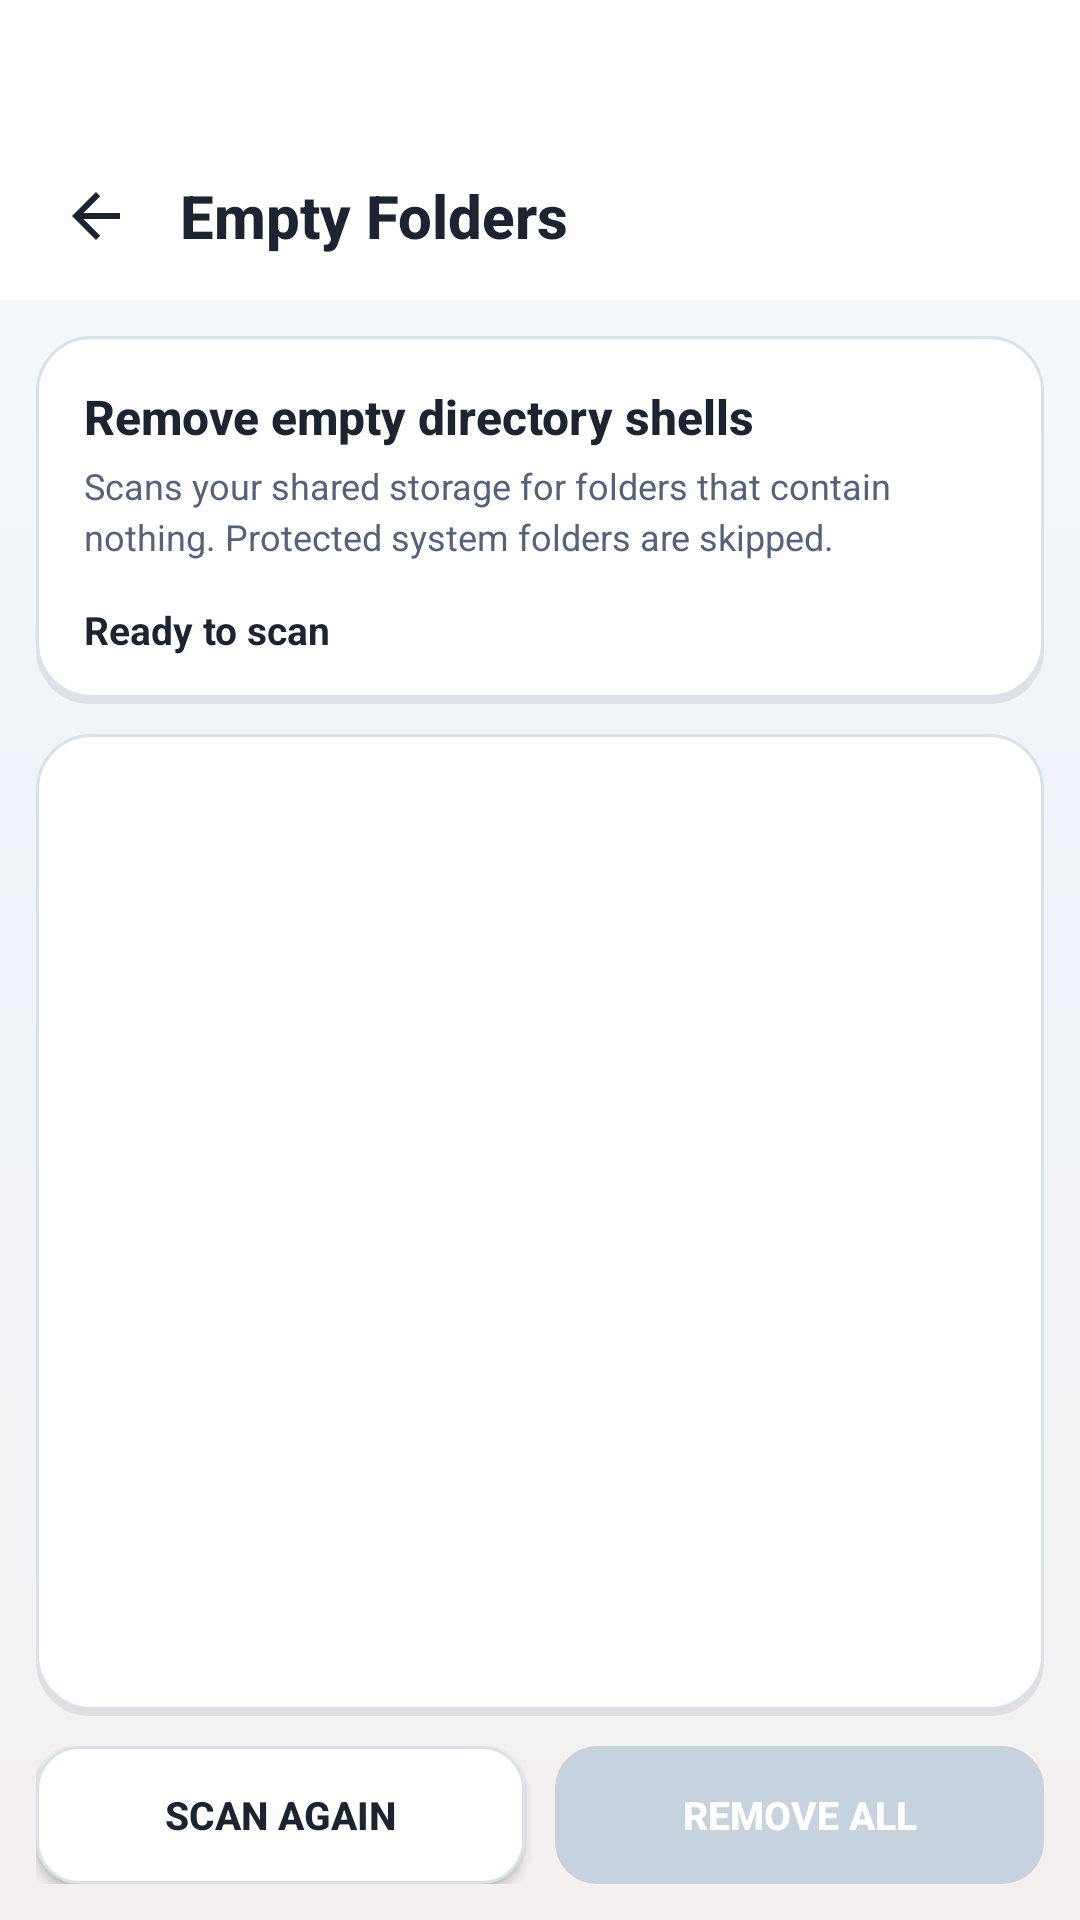

Where to tap for icons on this 1080x1920 app screen, as point (x, y):
Back: point (96, 216)
